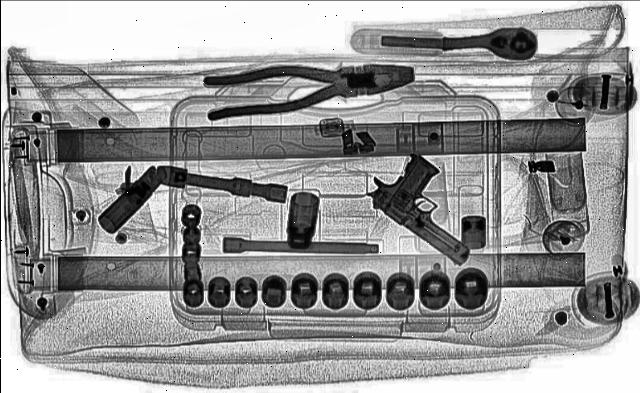Gun: (346, 154, 528, 266)
Pliers: (194, 52, 426, 120)
